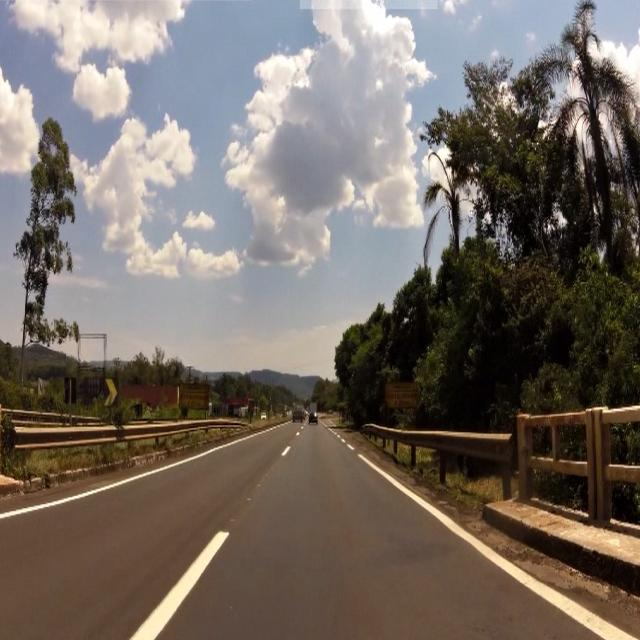Del: (102, 376, 122, 414)
